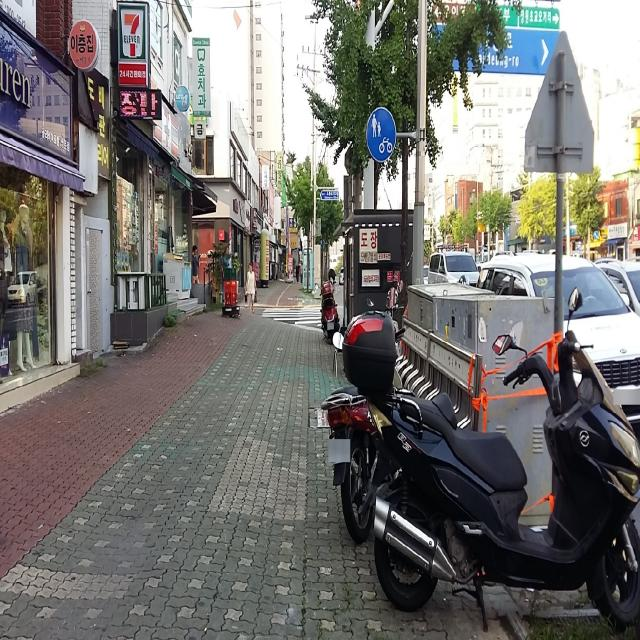횡단보도: (261, 308, 322, 326)
